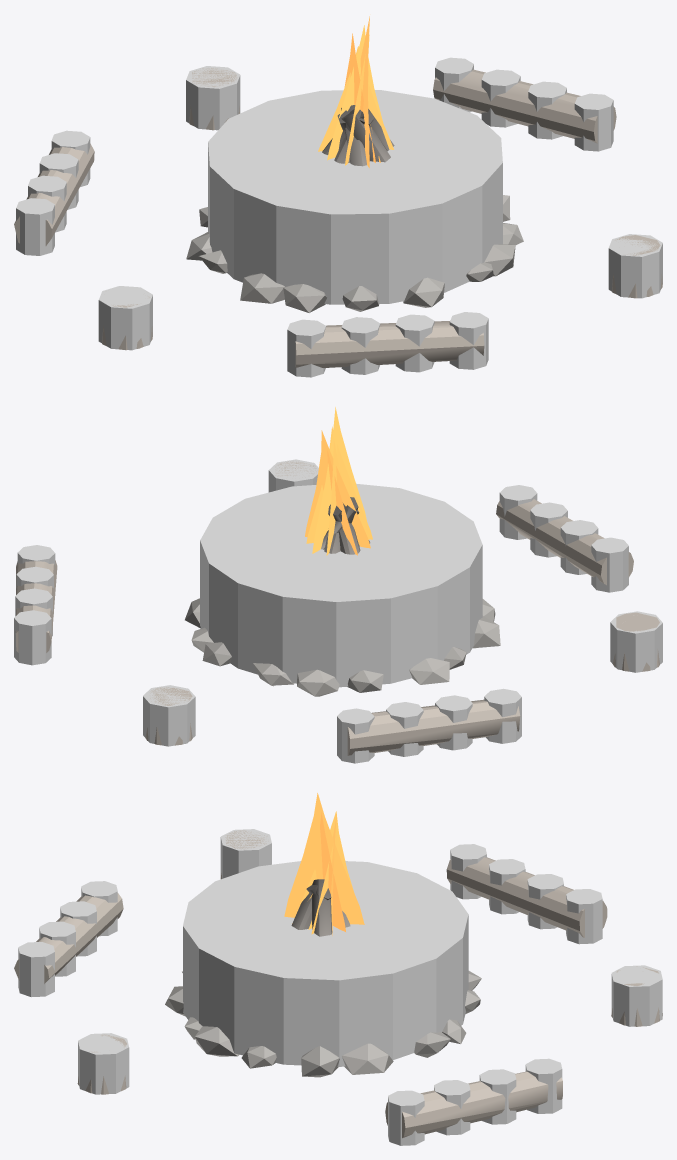
File: prop_bonfire_main_lite.glb
3 renders of one model, top to bottom at view 1: azimuth 30°, elevation 25°; view 2: azimuth 150°, elevation 25°; view 3: azimuth 270°, elevation 25°, orthographic. The views are drawn at different scales.
Parts seen in each view (by area): view 1: col_fire, seats, ring_stones, flames, col_seat_4, col_seat_5, col_seat_3, log_stack, col_seat_1_p3, col_seat_0_p0, col_seat_2_p3, col_seat_2_p0 (+8 smaller); view 2: col_fire, seats, ring_stones, flames, col_seat_3, col_seat_4, col_seat_0_p3, col_seat_2_p0, col_seat_1_p0, col_seat_1_p3, col_seat_5, col_seat_1_p2 (+8 smaller); view 3: col_fire, seats, ring_stones, flames, col_seat_3, col_seat_5, col_seat_4, col_seat_2_p3, col_seat_1_p0, log_stack, col_seat_0_p0, col_seat_0_p3 (+8 smaller).
Part boxes in pixels (left/top/right/bottom): col_fire: left=208, top=90, right=502, bottom=304; seats: left=14, top=68, right=662, bottom=367; ring_stones: left=186, top=195, right=523, bottom=312; flames: left=318, top=16, right=393, bottom=168; col_seat_4: left=98, top=286, right=152, bottom=350; col_seat_5: left=608, top=234, right=662, bottom=298; col_seat_3: left=186, top=66, right=240, bottom=130; log_stack: left=322, top=105, right=394, bottom=166; col_seat_1_p3: left=16, top=198, right=54, bottom=255; col_seat_0_p0: left=574, top=93, right=613, bottom=151; col_seat_2_p3: left=449, top=312, right=488, bottom=369; col_seat_2_p0: left=287, top=319, right=326, bottom=377; col_fire: left=200, top=483, right=482, bottom=687; seats: left=15, top=461, right=659, bottom=755; ring_stones: left=185, top=598, right=500, bottom=696; flames: left=305, top=407, right=372, bottom=555; col_seat_3: left=143, top=685, right=195, bottom=746; col_seat_4: left=610, top=611, right=662, bottom=672; col_seat_0_p3: left=14, top=610, right=51, bottom=665; col_seat_2_p0: left=591, top=537, right=628, bottom=592; col_seat_1_p0: left=337, top=708, right=374, bottom=763; col_seat_1_p3: left=484, top=688, right=521, bottom=743; col_seat_5: left=268, top=459, right=318, bottom=492; col_seat_1_p2: left=435, top=695, right=472, bottom=750; col_fire: left=183, top=861, right=468, bottom=1066; seats: left=14, top=830, right=662, bottom=1138; ring_stones: left=165, top=971, right=481, bottom=1077; flames: left=284, top=793, right=364, bottom=935; col_seat_3: left=611, top=965, right=662, bottom=1026; col_seat_5: left=78, top=1033, right=129, bottom=1094; col_seat_4: left=220, top=829, right=271, bottom=878; col_seat_2_p3: left=18, top=942, right=54, bottom=997; col_seat_1_p0: left=566, top=889, right=602, bottom=944; log_stack: left=291, top=879, right=350, bottom=936; col_seat_0_p0: left=388, top=1090, right=424, bottom=1145; col_seat_0_p3: left=525, top=1058, right=562, bottom=1113.
Bounding box in the file's own units: 6.92 × 2.67 × 6.78.
